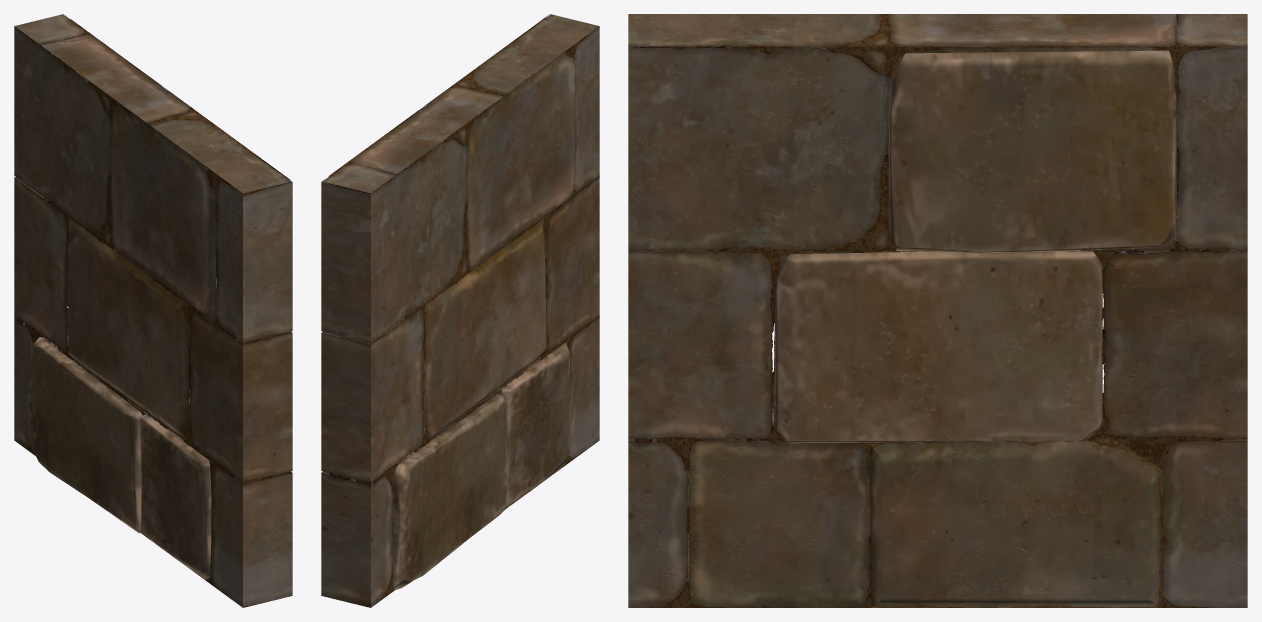
The picture shows the model from 3 angles, left to right: view 1: azimuth 30°, elevation 25°; view 2: azimuth 150°, elevation 25°; view 3: azimuth 270°, elevation 25°; orthographic projection. The views are drawn at different scales.
Parts seen in each view (by area): view 1: SM_Vault_4m_Wall_01_LOD0; view 2: SM_Vault_4m_Wall_01_LOD0; view 3: SM_Vault_4m_Wall_01_LOD0.
Boxes of the visible parts, bbox=[...] form: SM_Vault_4m_Wall_01_LOD0: bbox=[14, 14, 292, 607]; SM_Vault_4m_Wall_01_LOD0: bbox=[321, 14, 599, 607]; SM_Vault_4m_Wall_01_LOD0: bbox=[628, 14, 1247, 607].
Bounding box in the file's own units: 0.712 × 4 × 4.
2 materials, 2 textured.
